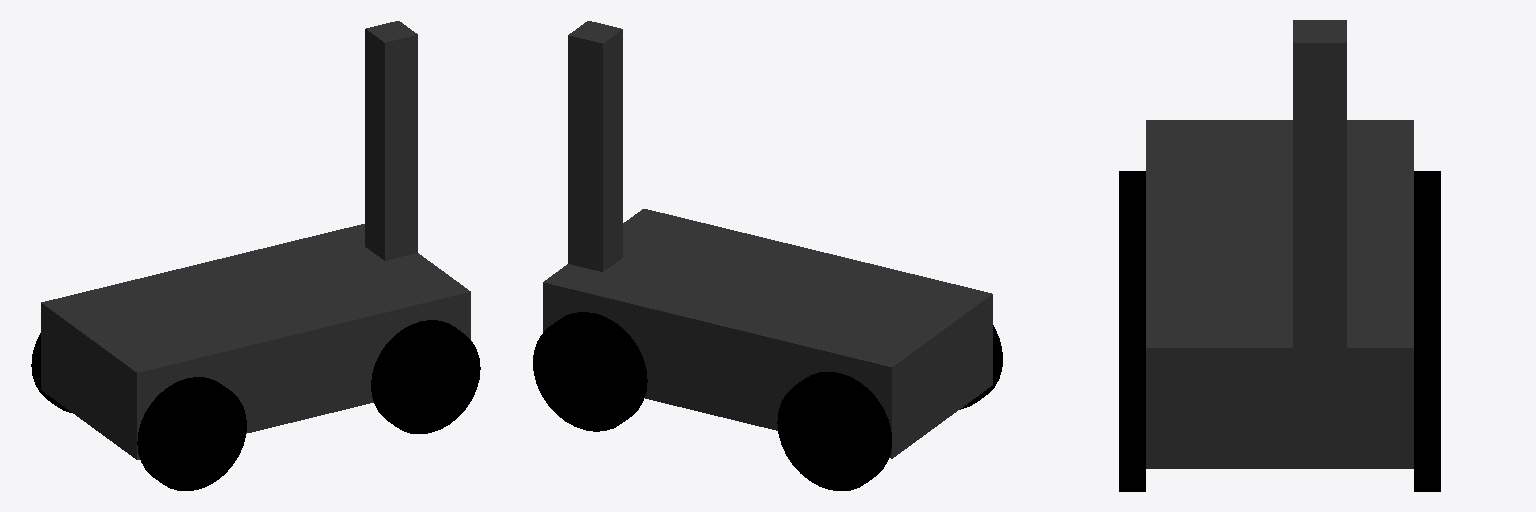
The robot description file, URDF, robot "ackermann_steering_vehicle":
<?xml version="1.0" ?>
<!-- =================================================================================== -->
<!-- |    This document was autogenerated by xacro from vehicle.xacro                  | -->
<!-- |    EDITING THIS FILE BY HAND IS NOT RECOMMENDED                                 | -->
<!-- =================================================================================== -->
<robot name="ackermann_steering_vehicle">
  <!-- Links -->
  <!-- Body Link -->
  <link name="body_link">
    <visual>
      <origin rpy="0.0 0.0 0.0" xyz="0.0 0.0 0.0"/>
      <geometry>
        <box size="2.0 1.0 0.5"/>
      </geometry>
      <material name="body_material">
        <color rgba="0.25 0.25 0.25 1.0"/>
      </material>
    </visual>
    <collision>
      <origin rpy="0.0 0.0 0.0" xyz="0.0 0.0 0.0"/>
      <geometry>
        <box size="2.0 1.0 0.5"/>
      </geometry>
    </collision>
    <inertial>
      <mass value="1000.0"/>
      <inertia ixx="104.16666666666666" ixy="0.0" ixz="0.0" iyy="354.16666666666663" iyz="0" izz="416.66666666666663"/>
      <origin rpy="0 0 0" xyz="0 0 0"/>
    </inertial>
  </link>
  <!-- Front Left Wheel -->
  <link name="front_left_wheel_link">
    <visual>
      <origin rpy="1.570795 0.0 0.0" xyz="0.0 0.0 0.0"/>
      <geometry>
        <cylinder length="0.1" radius="0.3"/>
      </geometry>
      <material name="wheel_material">
        <color rgba="0.0 0.0 0.0 1.0"/>
      </material>
    </visual>
    <collision>
      <origin rpy="1.570795 0.0 0.0" xyz="0.0 0.0 0.0"/>
      <geometry>
        <cylinder length="0.1" radius="0.3"/>
      </geometry>
    </collision>
    <inertial>
      <mass value="28.27433385"/>
      <inertia ixx="0.6597344564999998" ixy="0.0" ixz="0.0" iyy="0.6597344564999998" iyz="0" izz="1.27234502325"/>
      <origin rpy="1.570795 0.0 0.0" xyz="0.0 0.0 0.0"/>
    </inertial>
  </link>
  <!-- Front Left Wheel Steering -->
  <link name="front_left_steering_link">
    <visual>
      <origin rpy="1.570795 0.0 0.0" xyz="0.0 0.0 0.0"/>
      <geometry>
        <cylinder length="0.001" radius="0.01"/>
      </geometry>
      <material name="wheel_material">
        <color rgba="0.0 0.0 0.0 1.0"/>
      </material>
    </visual>
    <collision>
      <origin rpy="1.570795 0.0 0.0" xyz="0.0 0.0 0.0"/>
      <geometry>
        <cylinder length="0.001" radius="0.01"/>
      </geometry>
    </collision>
    <inertial>
      <mass value="0.01"/>
      <inertia ixx="0.0" ixy="0.0" ixz="0.0" iyy="0.0" iyz="0.0" izz="0.0"/>
      <origin rpy="1.570795 0.0 0.0" xyz="0.0 0.0 0.0"/>
    </inertial>
  </link>
  <!-- Front Right Wheel -->
  <link name="front_right_wheel_link">
    <visual>
      <origin rpy="1.570795 0.0 0.0" xyz="0.0 0.0 0.0"/>
      <geometry>
        <cylinder length="0.1" radius="0.3"/>
      </geometry>
      <material name="wheel_material">
        <color rgba="0.0 0.0 0.0 1.0"/>
      </material>
    </visual>
    <collision>
      <origin rpy="1.570795 0.0 0.0" xyz="0.0 0.0 0.0"/>
      <geometry>
        <cylinder length="0.1" radius="0.3"/>
      </geometry>
    </collision>
    <inertial>
      <mass value="28.27433385"/>
      <inertia ixx="0.6597344564999998" ixy="0.0" ixz="0.0" iyy="0.6597344564999998" iyz="0" izz="1.27234502325"/>
      <origin rpy="1.570795 0.0 0.0" xyz="0.0 0.0 0.0"/>
    </inertial>
  </link>
  <!-- Front Right Wheel Steering -->
  <link name="front_right_steering_link">
    <visual>
      <origin rpy="1.570795 0.0 0.0" xyz="0.0 0.0 0.0"/>
      <geometry>
        <cylinder length="0.001" radius="0.01"/>
      </geometry>
      <material name="wheel_material">
        <color rgba="0.0 0.0 0.0 1.0"/>
      </material>
    </visual>
    <collision>
      <origin rpy="1.570795 0.0 0.0" xyz="0.0 0.0 0.0"/>
      <geometry>
        <cylinder length="0.001" radius="0.01"/>
      </geometry>
    </collision>
    <inertial>
      <mass value="0.01"/>
      <inertia ixx="0.0" ixy="0.0" ixz="0.0" iyy="0.0" iyz="0.0" izz="0.0"/>
      <origin rpy="1.570795 0.0 0.0" xyz="0.0 0.0 0.0"/>
    </inertial>
  </link>
  <!-- Rear Left Wheel -->
  <link name="rear_left_wheel_link">
    <visual>
      <origin rpy="1.570795 0.0 0.0" xyz="0.0 0.0 0.0"/>
      <geometry>
        <cylinder length="0.1" radius="0.3"/>
      </geometry>
      <material name="wheel_material">
        <color rgba="0.0 0.0 0.0 1.0"/>
      </material>
    </visual>
    <collision>
      <origin rpy="1.570795 0.0 0.0" xyz="0.0 0.0 0.0"/>
      <geometry>
        <cylinder length="0.1" radius="0.3"/>
      </geometry>
    </collision>
    <inertial>
      <mass value="2"/>
      <inertia ixx="0.6597344564999998" ixy="0.0" ixz="0.0" iyy="0.6597344564999998" iyz="0" izz="1.27234502325"/>
      <origin rpy="1.570795 0.0 0.0" xyz="0.0 0.0 0.0"/>
    </inertial>
  </link>
  <!-- Rear Right Wheel -->
  <link name="rear_right_wheel_link">
    <visual>
      <origin rpy="1.570795 0.0 0.0" xyz="0.0 0.0 0.0"/>
      <geometry>
        <cylinder length="0.1" radius="0.3"/>
      </geometry>
      <material name="wheel_material">
        <color rgba="0.0 0.0 0.0 1.0"/>
      </material>
    </visual>
    <collision>
      <origin rpy="1.570795 0.0 0.0" xyz="0.0 0.0 0.0"/>
      <geometry>
        <cylinder length="0.1" radius="0.3"/>
      </geometry>
    </collision>
    <inertial>
      <mass value="2"/>
      <inertia ixx="0.6597344564999998" ixy="0.0" ixz="0.0" iyy="0.6597344564999998" iyz="0" izz="1.27234502325"/>
      <origin rpy="1.570795 0.0 0.0" xyz="0.0 0.0 0.0"/>
    </inertial>
  </link>
  <!-- Camera Stick Link -->
  <link name="camera_stick_link">
    <collision>
      <origin rpy="0 0 0" xyz="0 0 0"/>
      <geometry>
        <box size="0.2 0.2 1.5"/>
      </geometry>
    </collision>
    <visual>
      <origin rpy="0 0 0" xyz="0 0 0"/>
      <geometry>
        <box size="0.2 0.2 1.5"/>
      </geometry>
      <material name="camera_stick_material">
        <color rgba="0.25 0.25 0.25 1.0"/>
      </material>
    </visual>
    <inertial>
      <mass value="1e-5"/>
      <origin rpy="0 0 0" xyz="0 0 0"/>
      <inertia ixx="1e-6" ixy="0" ixz="0" iyy="1e-6" iyz="0" izz="1e-6"/>
    </inertial>
  </link>
  <!-- Camera Link -->
  <link name="camera_link">
    <collision>
      <origin rpy="0 0 0" xyz="0 0 0"/>
      <geometry>
        <box size="0.1 0.1 0.1"/>
      </geometry>
    </collision>
    <visual>
      <origin rpy="0 0 0" xyz="0 0 0"/>
      <geometry>
        <box size="0.1 0.1 0.1"/>
      </geometry>
      <material name="camera_material">
        <color rgba="0.0 0.0 0.0 1.0"/>
      </material>
    </visual>
    <inertial>
      <mass value="1e-5"/>
      <origin rpy="0 0 0" xyz="0 0 0"/>
      <inertia ixx="1e-6" ixy="0" ixz="0" iyy="1e-6" iyz="0" izz="1e-6"/>
    </inertial>
  </link>
  <!-- Joints -->
  <!-- Front Left Steering Joint -->
  <joint name="front_left_steering_joint" type="revolute">
    <origin rpy="0 0 0" xyz="0.7 0.55 -0.15"/>
    <parent link="body_link"/>
    <child link="front_left_steering_link"/>
    <axis xyz="0 0 1"/>
    <limit effort="1.0" lower="-0.6108" upper="0.6108" velocity="1.570796"/>
    <dynamics damping="0.1" friction="0.1"/>
  </joint>
  <!-- Front Left Wheel Joint -->
  <joint name="front_left_wheel_joint" type="continuous">
    <origin rpy="0 0 0" xyz="0 0 0"/>
    <parent link="front_left_steering_link"/>
    <child link="front_left_wheel_link"/>
    <axis xyz="0 1 0"/>
    <limit effort="10.0" velocity="3.3333333333333335"/>
    <dynamics damping="0.1" friction="0.1"/>
  </joint>
  <!-- Front Right Steering Joint -->
  <joint name="front_right_steering_joint" type="revolute">
    <origin rpy="0 0 0" xyz="0.7 -0.55 -0.15"/>
    <parent link="body_link"/>
    <child link="front_right_steering_link"/>
    <axis xyz="0 0 1"/>
    <limit effort="1.0" lower="-0.6108" upper="0.6108" velocity="1.570796"/>
    <dynamics damping="0.1" friction="0.1"/>
  </joint>
  <!-- Front Right Wheel Joint -->
  <joint name="front_right_wheel_joint" type="continuous">
    <origin rpy="0 0 0" xyz="0 0 0"/>
    <parent link="front_right_steering_link"/>
    <child link="front_right_wheel_link"/>
    <axis xyz="0 1 0"/>
    <limit effort="10.0" velocity="3.3333333333333335"/>
    <dynamics damping="0.1" friction="0.1"/>
  </joint>
  <!-- Rear Left Wheel Joint -->
  <joint name="rear_left_wheel_joint" type="continuous">
    <origin rpy="0 0 0" xyz="-0.7 0.55 -0.15"/>
    <parent link="body_link"/>
    <child link="rear_left_wheel_link"/>
    <axis xyz="0 1 0"/>
    <limit effort="10.0" velocity="3.3333333333333335"/>
    <dynamics damping="0.1" friction="0.1"/>
  </joint>
  <!-- Rear Right Wheel Joint -->
  <joint name="rear_right_wheel_joint" type="continuous">
    <origin rpy="0 0 0" xyz="-0.7 -0.55 -0.15"/>
    <parent link="body_link"/>
    <child link="rear_right_wheel_link"/>
    <axis xyz="0 1 0"/>
    <limit effort="10.0" velocity="3.3333333333333335"/>
    <dynamics damping="0.1" friction="0.1"/>
  </joint>
  <!-- Camera Stick Joint -->
  <joint name="camera_stick_joint" type="fixed">
    <axis xyz="0 1 0"/>
    <origin rpy="0.0 0.0 0.0" xyz="0.9 0.15000000000000002 0.75"/>
    <parent link="body_link"/>
    <child link="camera_stick_link"/>
  </joint>
  <!-- Camera Joint -->
  <joint name="camera_joint" type="fixed">
    <axis xyz="0 1 0"/>
    <origin rpy="0 0.1 0" xyz="0.0 -0.15000000000000002 0.75"/>
    <origin rpy="0 0.1 0" xyz="0.0 0.0 0.0"/>
    <parent link="camera_stick_link"/>
    <child link="camera_link"/>
  </joint>
  <!-- Gazebo Parameters -->
  <gazebo reference="body_link">
    <mu1>0.0001</mu1>
    <mu2>0.0001</mu2>
  </gazebo>
  <gazebo reference="front_right_wheel_link">
    <mu1>100.0</mu1>
    <mu2>100.0</mu2>
  </gazebo>
  <gazebo reference="front_left_wheel_link">
    <mu1>100.0</mu1>
    <mu2>100.0</mu2>
  </gazebo>
  <gazebo reference="rear_right_wheel_link">
    <mu1>100.0</mu1>
    <mu2>100.0</mu2>
  </gazebo>
  <gazebo reference="rear_left_wheel_link">
    <mu1>100.0</mu1>
    <mu2>100.0</mu2>
  </gazebo>
  <!-- Gazebo Control -->
  <ros2_control name="control" type="system">
    <hardware>
      <plugin>gz_ros2_control/GazeboSimSystem</plugin>
    </hardware>
    <joint name="front_left_steering_joint">
      <command_interface name="position">
        <param name="min">-0.6108</param>
        <param name="max">0.6108</param>
      </command_interface>
      <state_interface name="position"/>
      <state_interface name="velocity"/>
      <state_interface name="effort"/>
    </joint>
    <joint name="front_right_steering_joint">
      <command_interface name="position">
        <param name="min">-0.6108</param>
        <param name="max">0.6108</param>
      </command_interface>
      <state_interface name="position"/>
      <state_interface name="velocity"/>
      <state_interface name="effort"/>
    </joint>
    <joint name="rear_left_wheel_joint">
      <command_interface name="velocity">
        <param name="min">-3.3333333333333335</param>
        <param name="max">3.3333333333333335</param>
      </command_interface>
      <state_interface name="position"/>
      <state_interface name="velocity"/>
      <state_interface name="effort"/>
    </joint>
    <joint name="rear_right_wheel_joint">
      <command_interface name="velocity">
        <param name="min">-3.3333333333333335</param>
        <param name="max">3.3333333333333335</param>
      </command_interface>
      <state_interface name="position"/>
      <state_interface name="velocity"/>
      <state_interface name="effort"/>
    </joint>
  </ros2_control>
  <!-- Gazebo Plugins -->
  <gazebo>
    <plugin filename="gz-sim-triggered-publisher-system" name="gz::sim::systems::TriggeredPublisher">
      <input topic="/keyboard/keypress" type="gz.msgs.Int32">
        <match field="data">16777235</match>
      </input>
      <output topic="/cmd_vel" type="gz.msgs.Twist">
		  linear: {x: 0.5}, angular: {z: 0.0}
	  </output>
    </plugin>
    <!-- Moving Backward-->
    <plugin filename="gz-sim-triggered-publisher-system" name="gz::sim::systems::TriggeredPublisher">
      <input topic="/keyboard/keypress" type="gz.msgs.Int32">
        <match field="data">16777237</match>
      </input>
      <output topic="/cmd_vel" type="gz.msgs.Twist">
	  linear: {x: -0.5}, angular: {z: 0}
  </output>
    </plugin>
    <!-- Moving LEFT-->
    <plugin filename="gz-sim-triggered-publisher-system" name="gz::sim::systems::TriggeredPublisher">
      <input topic="/keyboard/keypress" type="gz.msgs.Int32">
        <match field="data">16777234</match>
      </input>
      <output topic="/cmd_vel" type="gz.msgs.Twist">
	linear: {x: 0}, angular: {z: 0.5}
</output>
    </plugin>
    <!-- Moving RIGHT-->
    <plugin filename="gz-sim-triggered-publisher-system" name="gz::sim::systems::TriggeredPublisher">
      <input topic="/keyboard/keypress" type="gz.msgs.Int32">
        <match field="data">16777236</match>
      </input>
      <output topic="/cmd_vel" type="gz.msgs.Twist">
	linear: {x: 0}, angular: {z: -0.5}
</output>
    </plugin>
    <physics name="1ms" type="ignored">
      <max_step_size>0.001</max_step_size>
      <real_time_factor>1.0</real_time_factor>
    </physics>
    <plugin filename="gz-sim-physics-system" name="gz::sim::systems::Physics">
	</plugin>
    <plugin filename="gz-sim-user-commands-system" name="gz::sim::systems::UserCommands">
</plugin>
    <plugin filename="gz-sim-scene-broadcaster-system" name="gz::sim::systems::SceneBroadcaster">
	</plugin>
  </gazebo>
</robot>

--- What the picture shows (computed from the rendered views, not written in the file) ---
The picture shows the robot from 3 angles, left to right: view 1: azimuth 30°, elevation 25°; view 2: azimuth 150°, elevation 25°; view 3: azimuth 270°, elevation 25°; orthographic projection.
Robot: ackermann_steering_vehicle — 9 links, 8 joints (2 revolute, 4 continuous, 2 fixed); root link body_link; default pose: every joint at zero.
Visible links, largest first — view 1: body_link, camera_stick_link, rear_right_wheel_link, front_right_wheel_link, rear_left_wheel_link; view 2: body_link, camera_stick_link, front_left_wheel_link, rear_left_wheel_link, rear_right_wheel_link; view 3: body_link, camera_stick_link, front_left_wheel_link, front_right_wheel_link, rear_left_wheel_link, rear_right_wheel_link.
Link boxes in pixels (left/top/right/bottom): body_link: left=41, top=224, right=470, bottom=459; camera_stick_link: left=365, top=21, right=417, bottom=260; rear_right_wheel_link: left=137, top=377, right=246, bottom=490; front_right_wheel_link: left=371, top=320, right=480, bottom=433; rear_left_wheel_link: left=31, top=333, right=71, bottom=412; body_link: left=543, top=209, right=992, bottom=458; camera_stick_link: left=568, top=21, right=622, bottom=271; front_left_wheel_link: left=533, top=312, right=647, bottom=431; rear_left_wheel_link: left=777, top=372, right=891, bottom=490; rear_right_wheel_link: left=960, top=325, right=1002, bottom=409; body_link: left=1146, top=120, right=1413, bottom=468; camera_stick_link: left=1293, top=20, right=1346, bottom=408; front_left_wheel_link: left=1414, top=330, right=1440, bottom=491; front_right_wheel_link: left=1119, top=330, right=1145, bottom=491; rear_left_wheel_link: left=1414, top=171, right=1440, bottom=329; rear_right_wheel_link: left=1119, top=171, right=1145, bottom=329.
Size in the robot's own frame: 2 by 1.2 by 1.95 metres.
Geometry: primitives only (box / cylinder / sphere), no mesh files.
